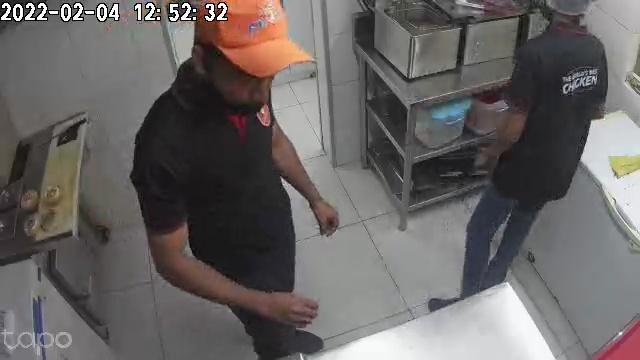no_gloves: (250, 292, 318, 329), (308, 195, 341, 237)
